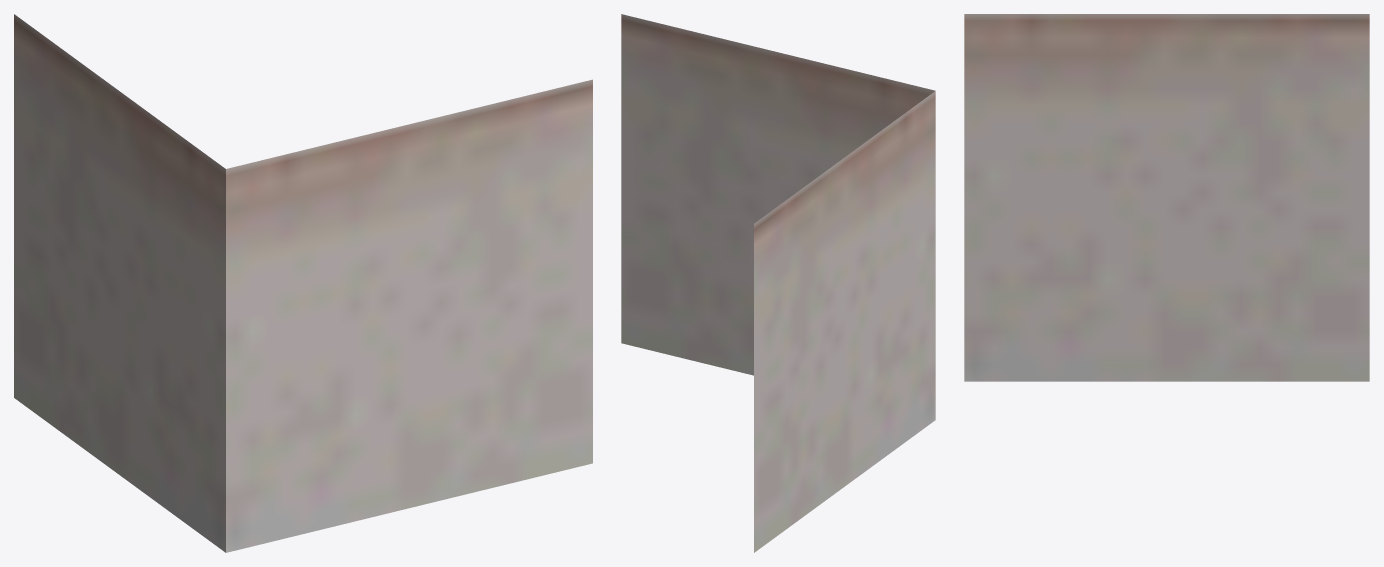
File: Urban_ConcreteFootWallCorner_Model.fbx
3 views of the same model, side by side, from view 1: azimuth 30°, elevation 25°; view 2: azimuth 150°, elevation 25°; view 3: azimuth 270°, elevation 25° (orthographic). The views are drawn at different scales.
Visible parts, largest first — view 1: Urban_ConcreteFootWallCorner_Mesh; view 2: Urban_ConcreteFootWallCorner_Mesh; view 3: Urban_ConcreteFootWallCorner_Mesh.
Boxes of the visible parts, <box> form: Urban_ConcreteFootWallCorner_Mesh: <box>14,14,592,552</box>; Urban_ConcreteFootWallCorner_Mesh: <box>621,14,935,552</box>; Urban_ConcreteFootWallCorner_Mesh: <box>964,14,1369,381</box>.
Bounding box in the file's own units: 0.7 × 0.7 × 0.7.
